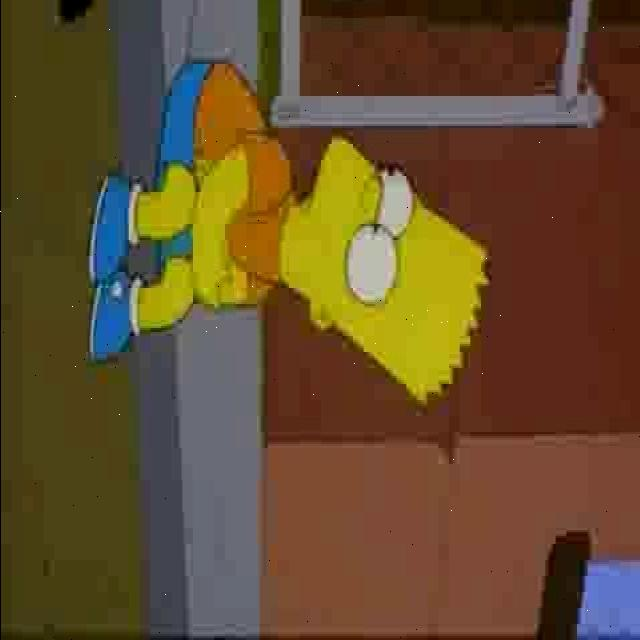Bart Simpson: (279, 134, 489, 406)
